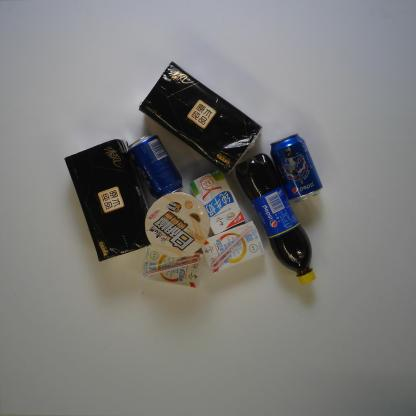Drink: (235, 152, 316, 286), (127, 132, 184, 200), (270, 133, 324, 203)
Instant Noodles: (144, 191, 211, 258)
Milk: (188, 168, 246, 236), (200, 219, 266, 274), (142, 246, 205, 288)
Tissue: (138, 61, 262, 176), (64, 139, 156, 262)
